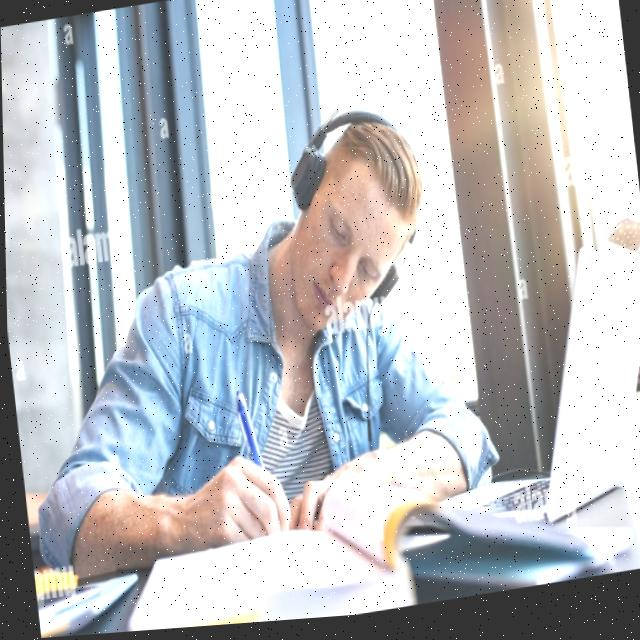studying-person: (17, 85, 640, 634)
